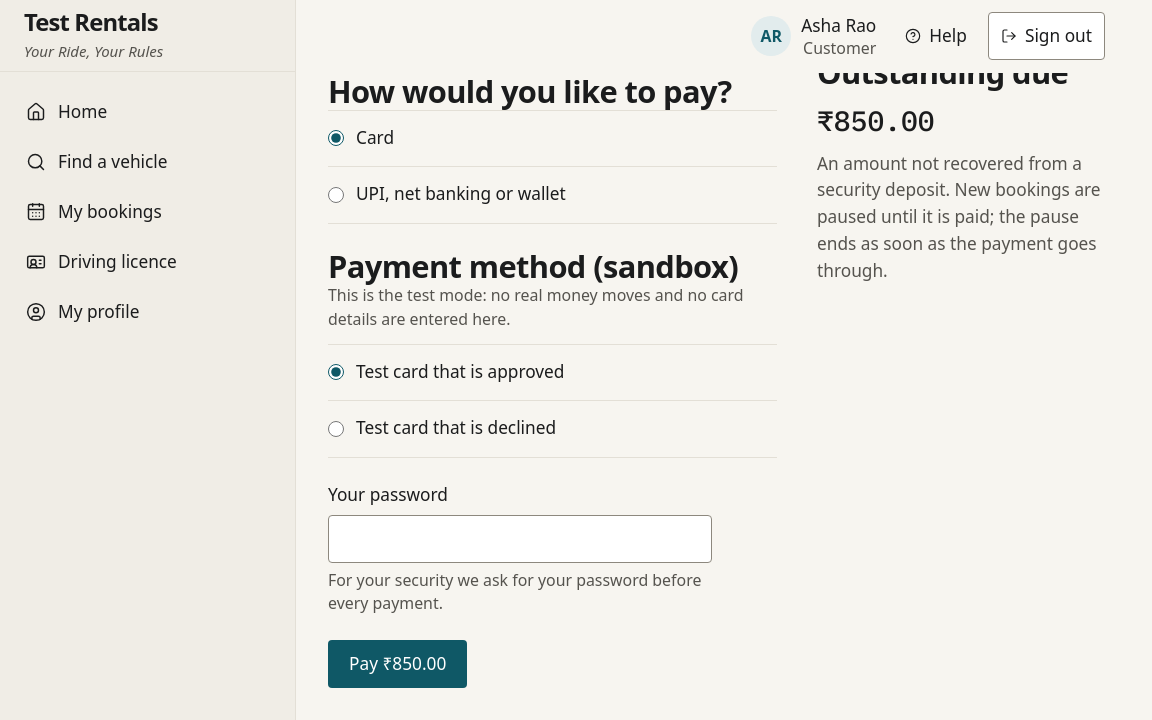
Test: outstanding due (Pay.Dues, BR-4) › asks for the password first, and shows a wrong one on its field (SE-9)
The width and height of the screenshot is (1152, 720).
(page scrolled)
Click the button "Pay ₹850.00".
click(398, 664)  # box [328,640,467,688]
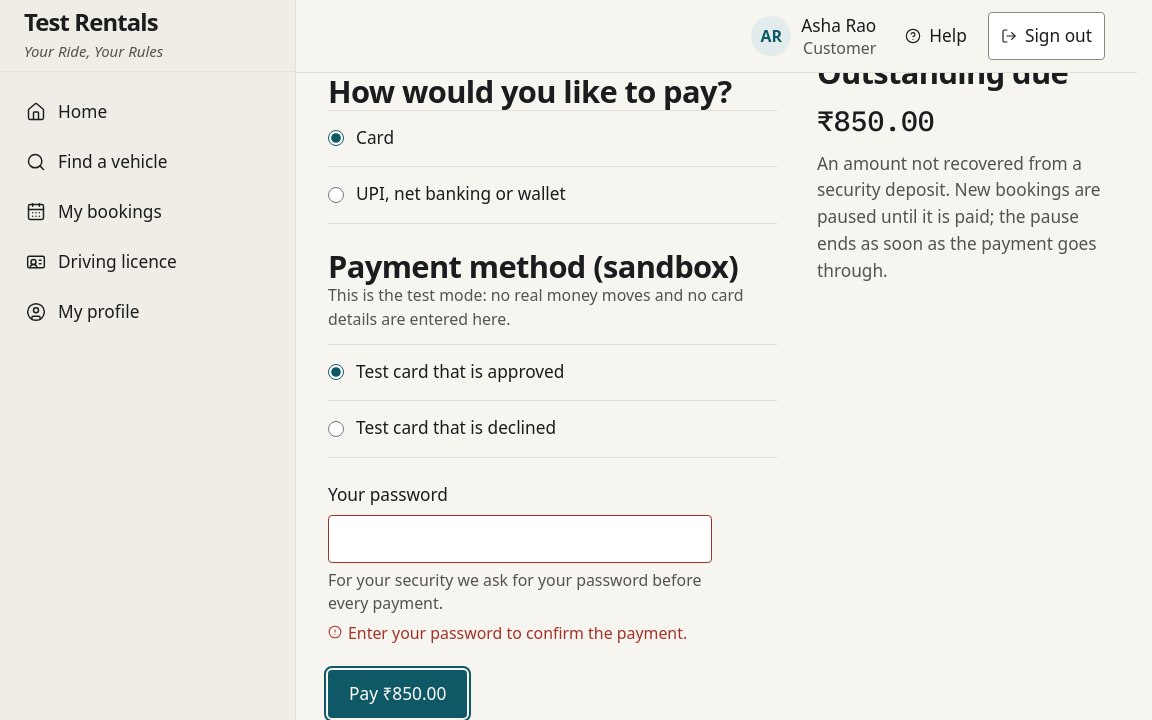
Expected: the text "Enter your password to confirm the payment." is shown, [348,622,687,646]
Type "wrong-one" into the password field labelled "Your password".
click(520, 538); type("wrong-one")  # box [328,514,712,562]
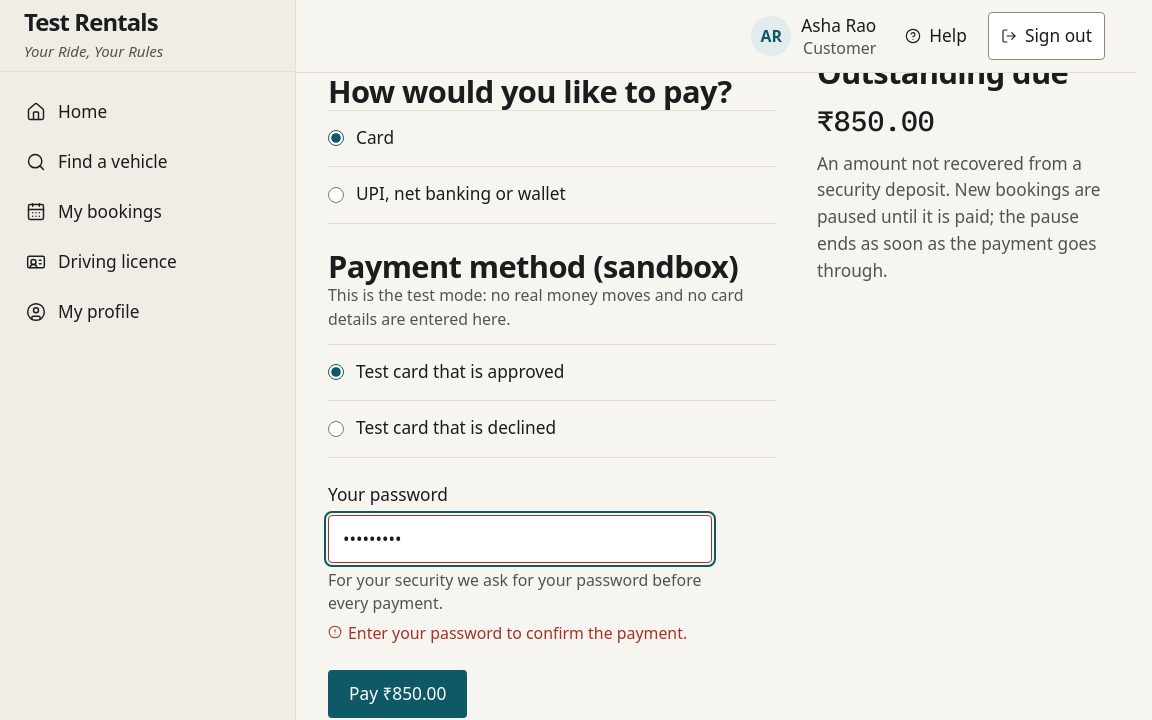
Click the button "Pay ₹850.00".
click(398, 694)  # box [328,670,467,718]
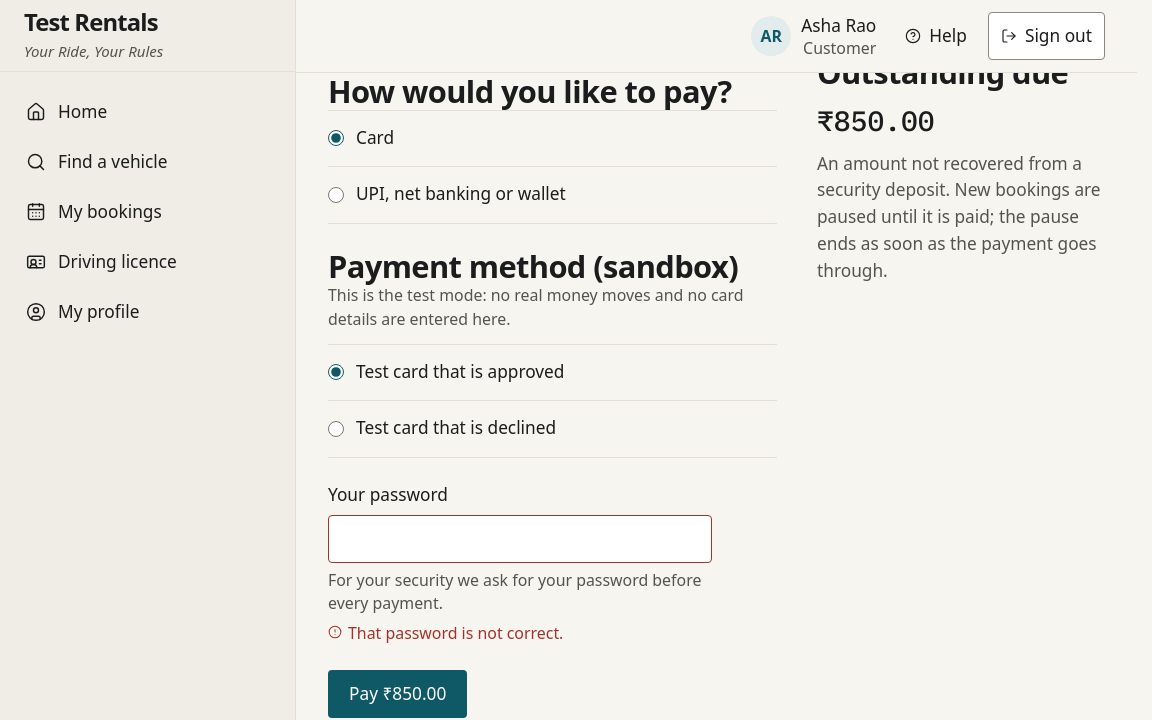
Expected: the text "That password is not correct." is shown, [348,622,563,646]
